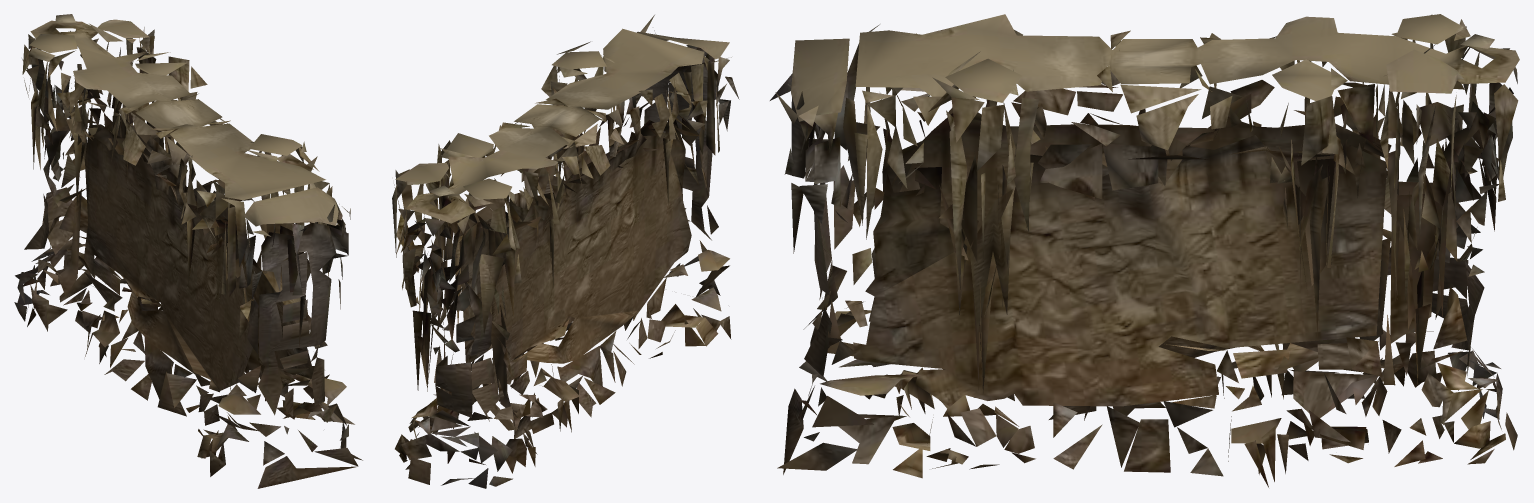
File: cav_flowstone_drapery_wall_LOD3.glb
The picture shows the model from 3 angles, left to right: view 1: azimuth 30°, elevation 25°; view 2: azimuth 150°, elevation 25°; view 3: azimuth 270°, elevation 25°; orthographic projection. The views are drawn at different scales.
Visible parts, largest first — view 1: tripo_node_7b1ac8a0-77a8-4fd8-9107-2be55535e6d0; view 2: tripo_node_7b1ac8a0-77a8-4fd8-9107-2be55535e6d0; view 3: tripo_node_7b1ac8a0-77a8-4fd8-9107-2be55535e6d0.
Part boxes in pixels (x1,y1,x2,y2): tripo_node_7b1ac8a0-77a8-4fd8-9107-2be55535e6d0: [14, 14, 362, 488]; tripo_node_7b1ac8a0-77a8-4fd8-9107-2be55535e6d0: [392, 15, 739, 488]; tripo_node_7b1ac8a0-77a8-4fd8-9107-2be55535e6d0: [770, 14, 1519, 487].
Bounding box in the file's own units: 0.3175 × 0.6176 × 1.02.
Materials: 1 (1 with a texture image).
